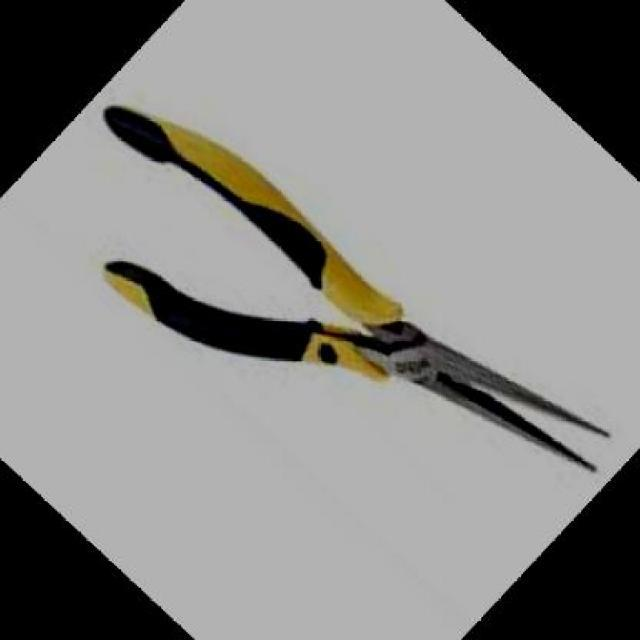pliers: (1, 0, 638, 629)
